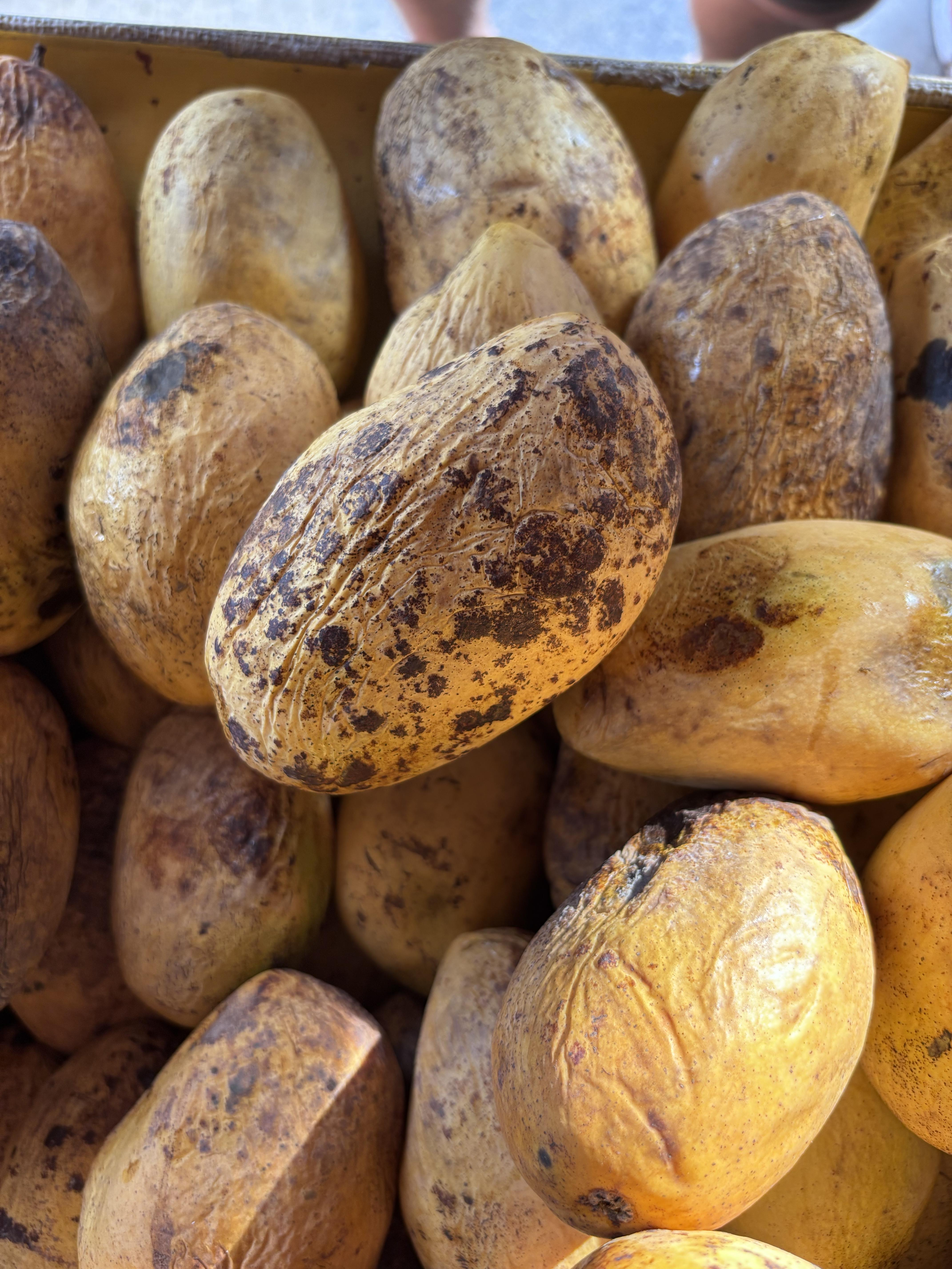mango: (205, 313, 681, 793)
occluded: (492, 794, 874, 1237), (555, 520, 952, 804), (69, 303, 337, 706), (78, 970, 404, 1269), (626, 193, 892, 541), (375, 39, 657, 333), (112, 709, 334, 1027), (400, 928, 603, 1269), (139, 88, 365, 389), (336, 722, 552, 994), (655, 30, 908, 254), (0, 221, 110, 654), (0, 56, 142, 366), (862, 777, 952, 1151)
